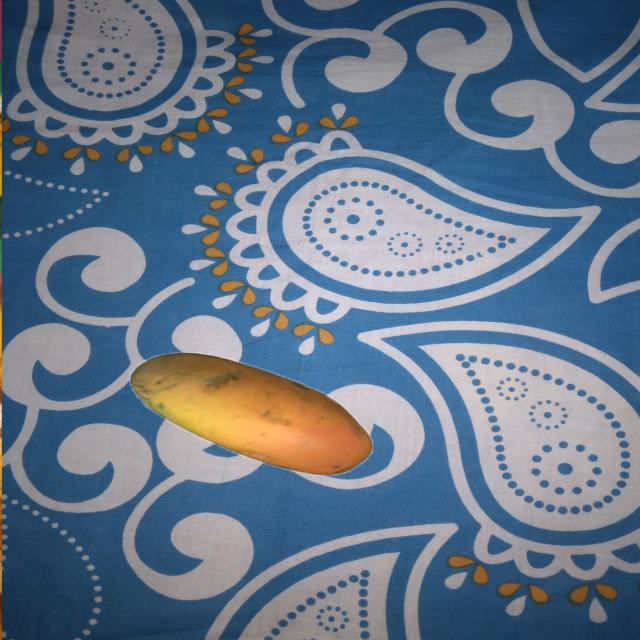Pepaya rippen: (123, 349, 376, 483)
